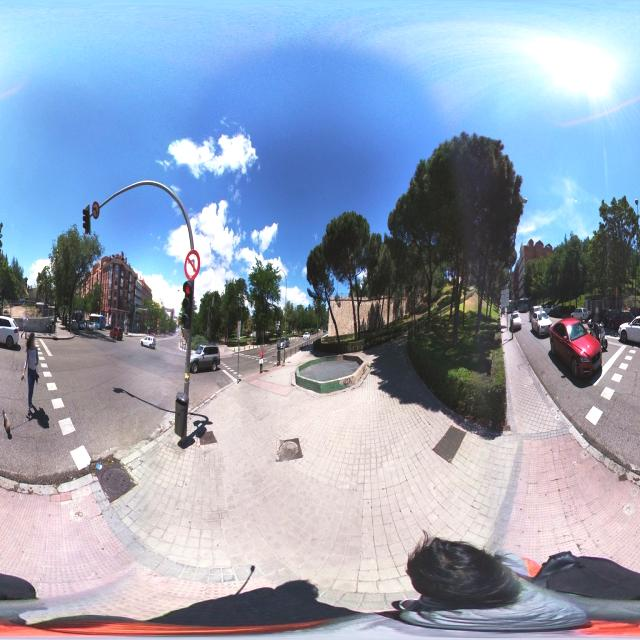car: (549, 318, 603, 382), (188, 342, 221, 374), (583, 319, 608, 352), (0, 313, 22, 350), (618, 310, 640, 346), (534, 312, 554, 338), (508, 310, 522, 332), (110, 324, 124, 341), (142, 332, 156, 349), (277, 335, 290, 349)
